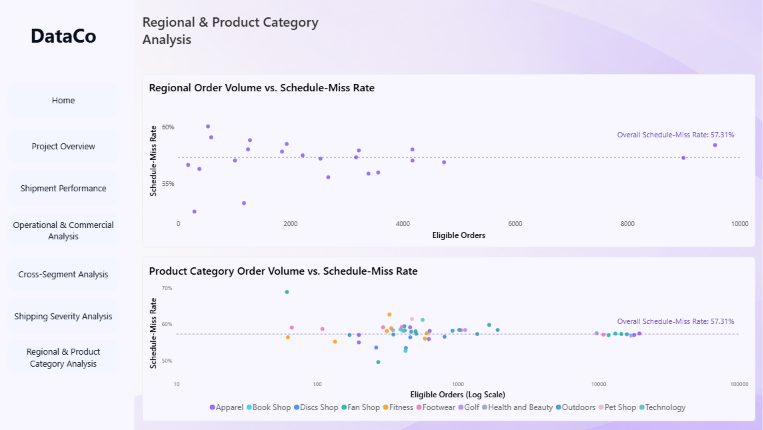

What the dashboard file says about the page in this screenshot:
{"tool":"powerbi","page":{"name":"Regional & Product Category Analysis","canvas":[1920,1080],"ordinal":6},"visuals":[{"type":"shape","box":[0,0,342.5,1080],"z":0},{"type":"shape","box":[24.2,208.3,280,85],"z":1000},{"type":"shape","box":[24.2,323.3,280,85],"z":2000},{"type":"shape","box":[24.2,748.3,280,85],"z":3000},{"type":"shape","box":[24.2,428.3,280,85],"z":4000},{"type":"shape","box":[24.2,533.3,280,85],"z":5000},{"type":"shape","box":[24.2,643.3,280,85],"z":6000},{"type":"shape","box":[66.7,28.3,195,117.5],"z":7000},{"type":"shape","title":"Regional & Product Category Analysis","box":[362.5,30,550,97.5],"z":8000},{"type":"scatterChart","title":"Regional Order Volume vs. Schedule-Miss Rate","fields":{"Category":["Dim_Region.order_region"],"X":["fact_order_shipping.Eligible Orders (Fact)"],"Y":["fact_order_shipping.Schedule Miss Rate"]},"box":[362.5,185,1532.5,432.5],"z":9000},{"type":"scatterChart","title":"Product Category Order Volume vs. Schedule-Miss Rate","fields":{"Category":["Dim_Product_Category.category_name"],"Series":["Dim_Product_Category.department_name"],"X":["fact_order_shipping.Category Eligible Orders (Fact)"],"Y":["fact_order_shipping.Measure"]},"box":[362.5,642.5,1532.5,410],"z":9001},{"type":"shape","box":[25,850,280,85],"z":9002},{"type":"textbox","box":[1550,322.5,297.5,60],"z":9003},{"type":"textbox","box":[1550,790,297.5,60],"z":9004}]}

Visuals, with their boxes on the page's 1920x1080 design canvas (x1, y1, x2, y2). These are canvas units, not pixel positions in the 763x430 screenshot, which may show the page scaled, cropped or inside an application window:
shape: [0, 0, 342, 1080]
shape: [24, 208, 304, 293]
shape: [24, 323, 304, 408]
shape: [24, 748, 304, 833]
shape: [24, 428, 304, 513]
shape: [24, 533, 304, 618]
shape: [24, 643, 304, 728]
shape: [67, 28, 262, 146]
"Regional & Product Category Analysis" shape: [362, 30, 912, 128]
"Regional Order Volume vs. Schedule-Miss Rate" scatterChart: [362, 185, 1895, 618]
"Product Category Order Volume vs. Schedule-Miss Rate" scatterChart: [362, 642, 1895, 1052]
shape: [25, 850, 305, 935]
textbox: [1550, 322, 1848, 382]
textbox: [1550, 790, 1848, 850]
